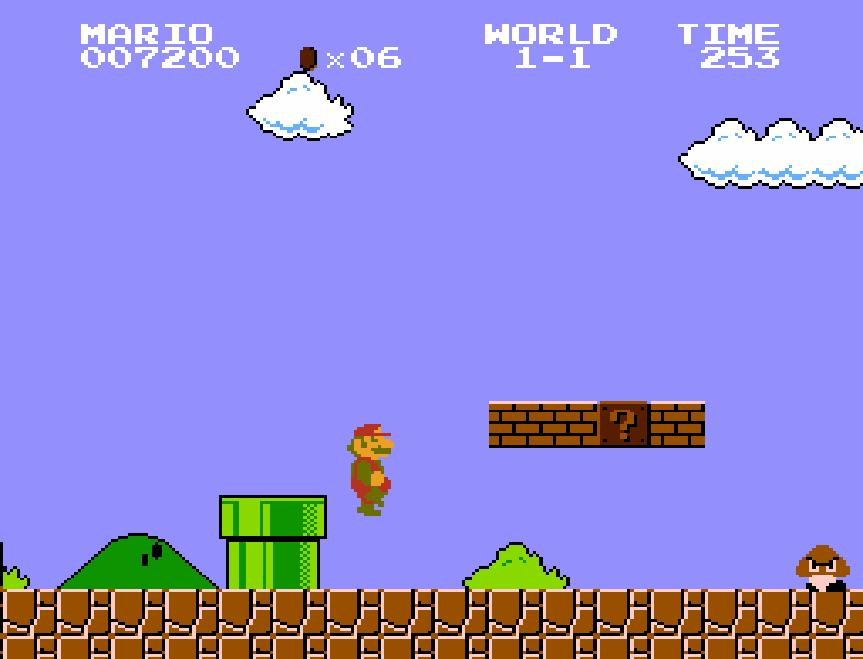big_mario: (342, 420, 400, 518)
